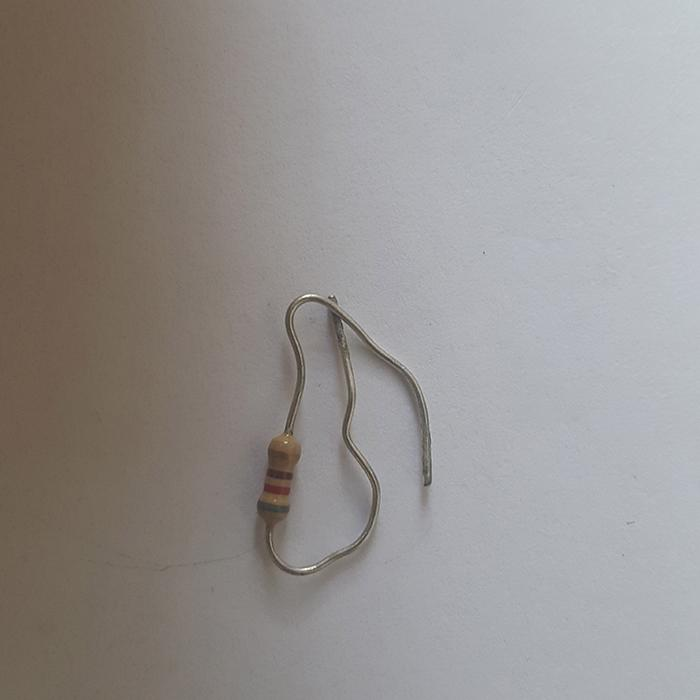resistor: (256, 431, 303, 529)
